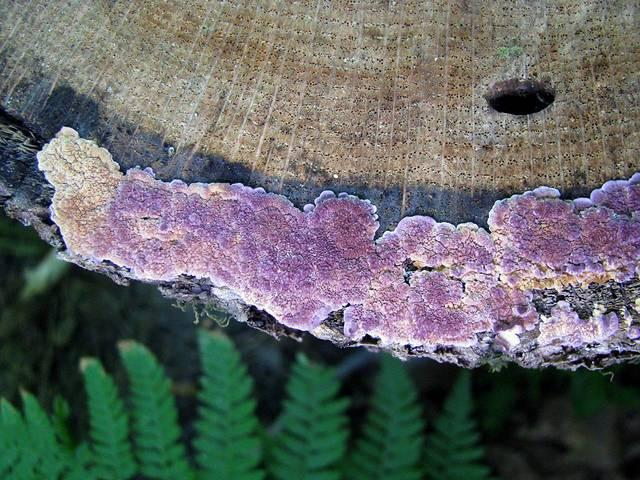Non-edible Mushroom: (33, 123, 638, 372), (484, 76, 555, 116)
